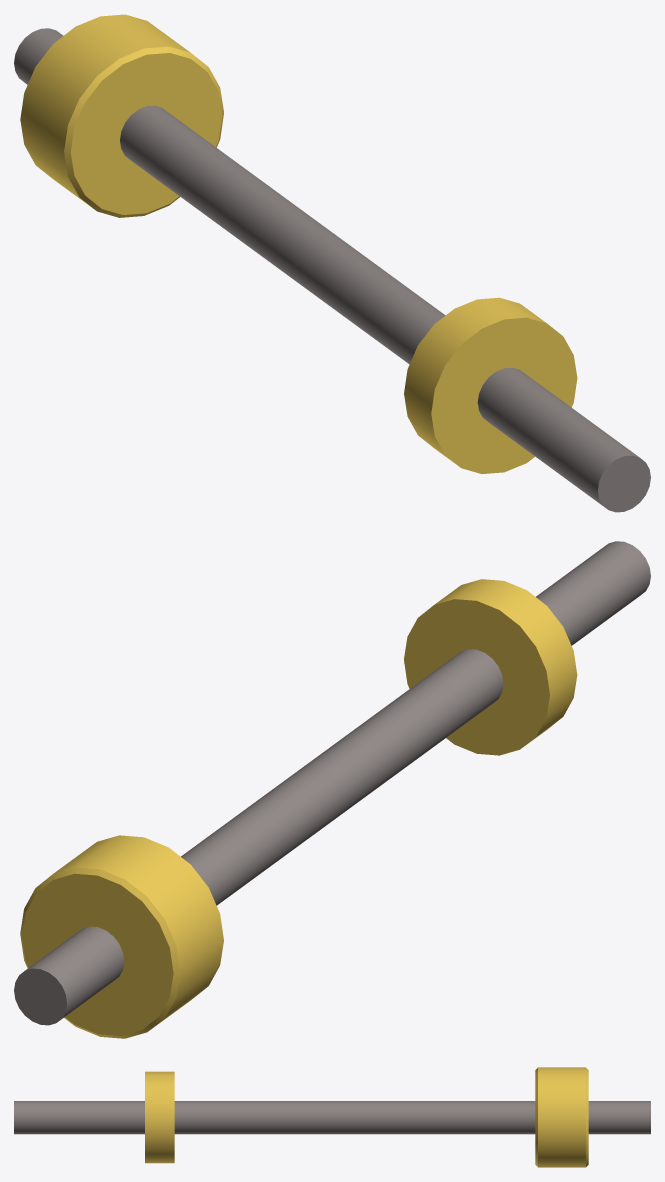
The model's file is Shaft.fbx.
3 renders of one model, top to bottom at view 1: azimuth 30°, elevation 25°; view 2: azimuth 150°, elevation 25°; view 3: azimuth 270°, elevation 25°, orthographic. The views are drawn at different scales.
Visible parts, largest first — view 1: Shaft_Fixture1; view 2: Shaft_Fixture1; view 3: Shaft_Fixture1.
Part boxes in pixels (x1,y1,x2,y2): Shaft_Fixture1: (14,14,650,512); Shaft_Fixture1: (14,541,650,1038); Shaft_Fixture1: (14,1067,650,1167).
Bounding box in the file's own units: 19.16 × 19.16 × 121.
